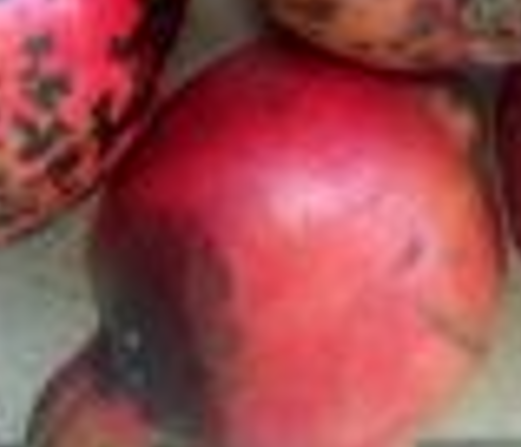pomegranate_C: (89, 34, 508, 446)
